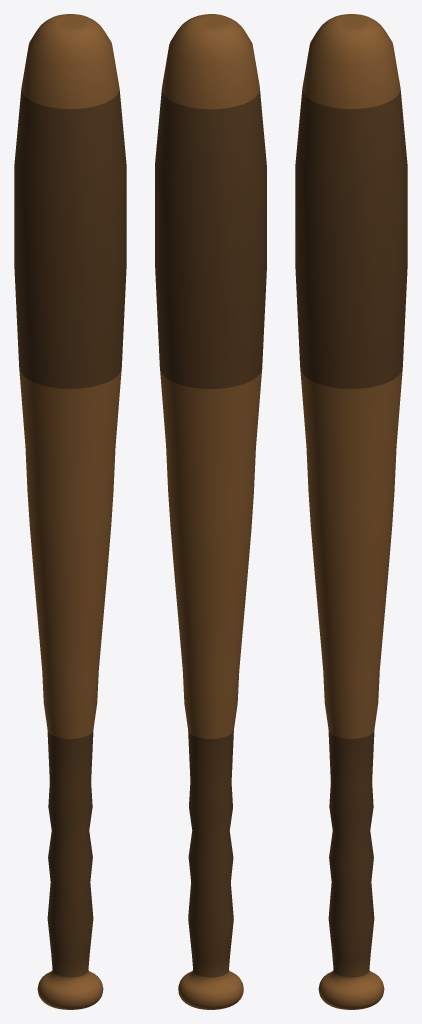
The model's file is Baseball-Bat-02.obj.
3 views of the same model, side by side, from view 1: azimuth 90°, elevation 25°; view 2: azimuth 210°, elevation 25°; view 3: azimuth 270°, elevation 25° (orthographic).
Parts seen in each view (by area): view 1: Bat2; view 2: Bat2; view 3: Bat2.
Part boxes in pixels (<box>): Bat2: <box>14,14,126,1009</box>; Bat2: <box>155,14,266,1009</box>; Bat2: <box>295,14,407,1009</box>.
Bounding box in the file's own units: 0.2072 × 1.99 × 0.2072.
